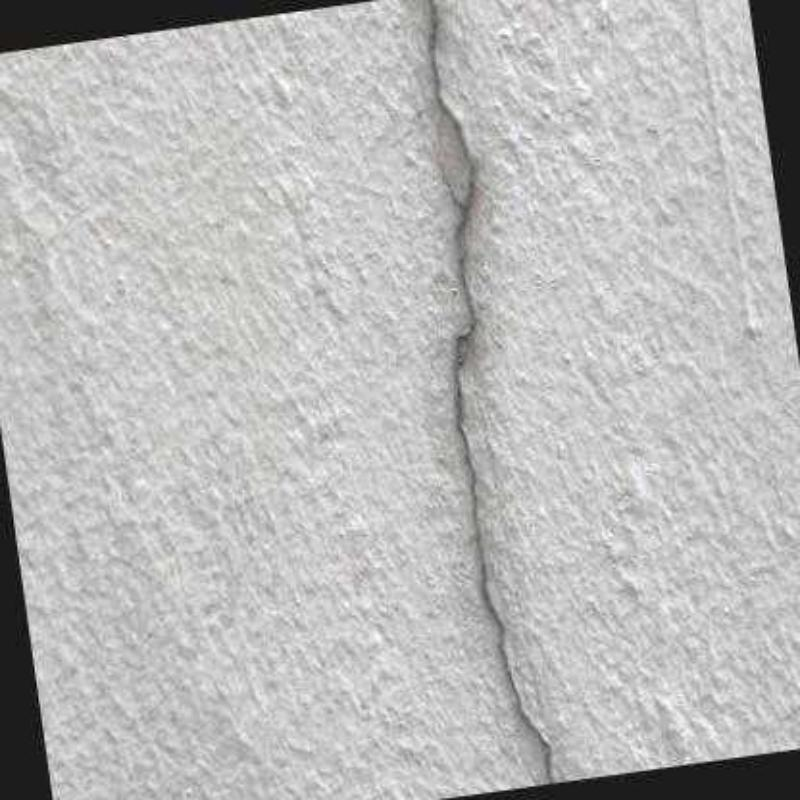pothole: (428, 0, 554, 783)
